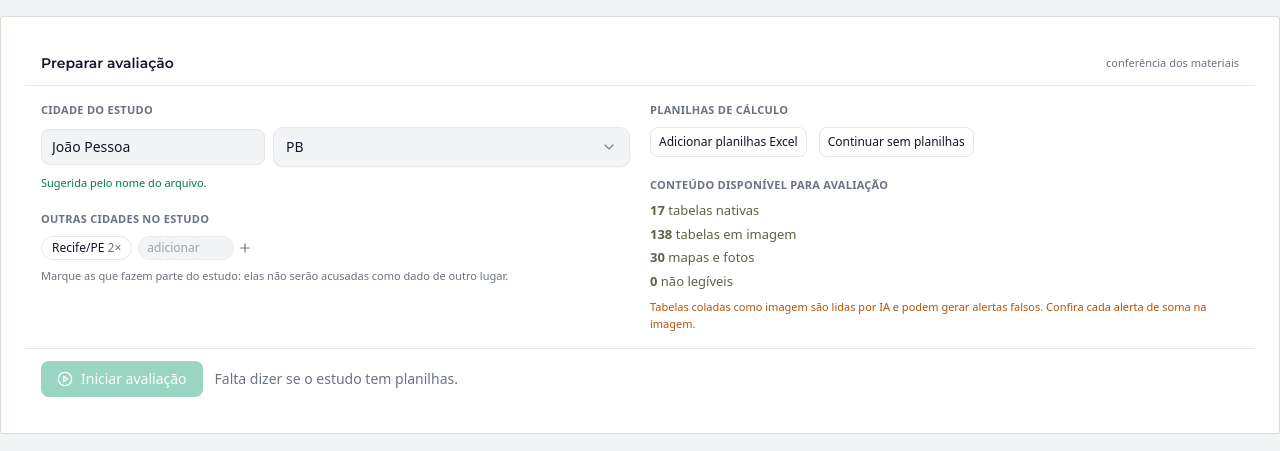
Test: cartão de pré-análise › chega com a cidade sugerida, exige decidir sobre planilhas e envia as outras cidades marcadas
Later steps or results of the test are not shown.
Expected: the field with placeholder "ex.: Guarulhos" holds "João Pessoa", [41,128,265,164]
Expected: the button "Iniciar avaliação" is disabled, [41,361,203,397]
Click the button "Recife/PE 2×". click: (87, 248)
box: [41,236,132,260]
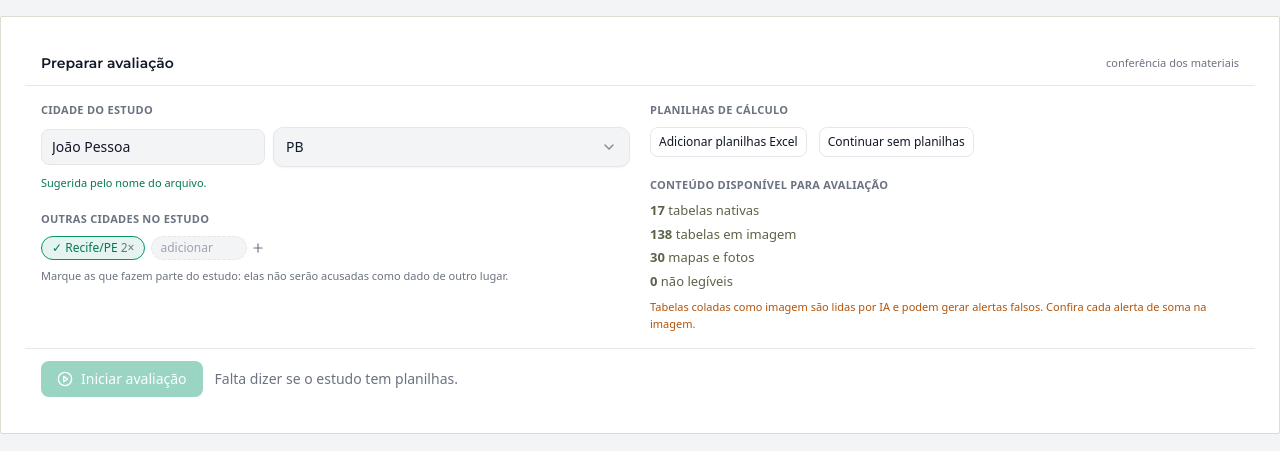
Click the button "Continuar sem planilhas". click: (896, 142)
box: [819,126,974,156]
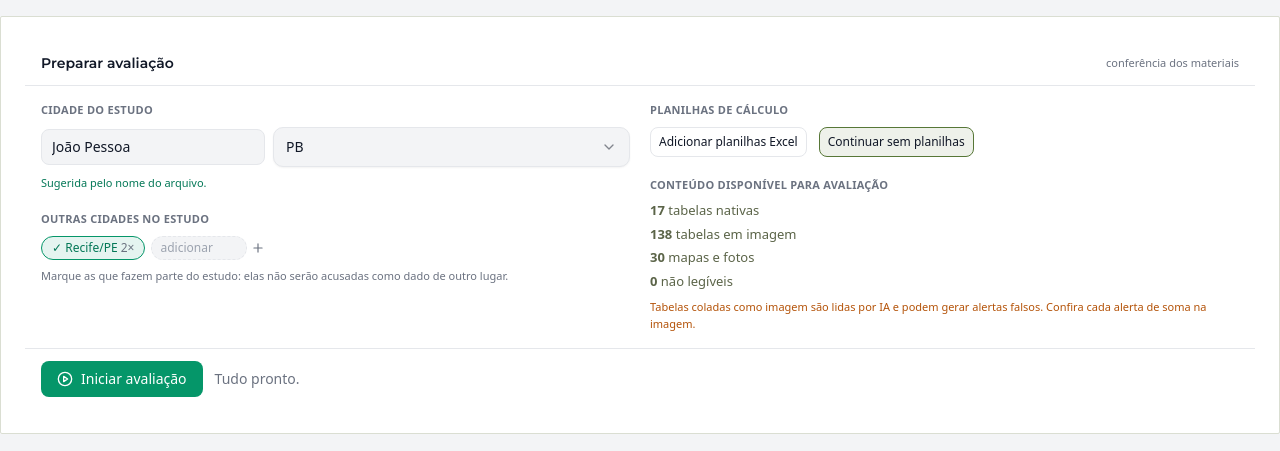
Result: the button "Iniciar avaliação" is enabled at [41,361,203,397]
